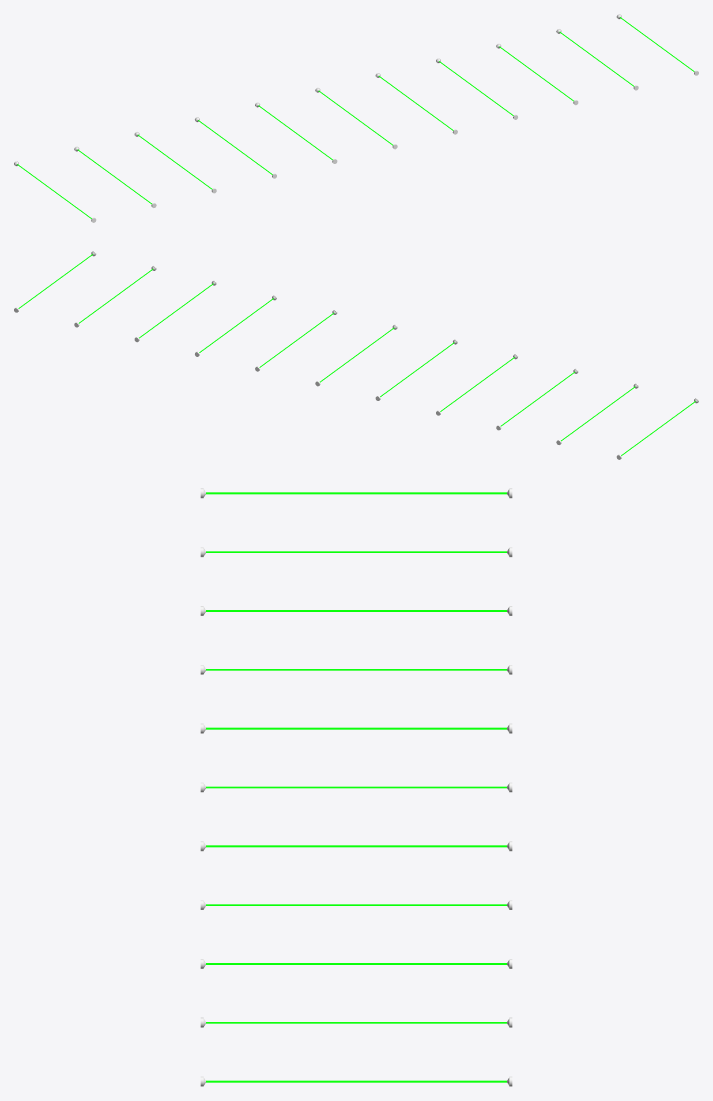
The picture shows the model from 3 angles, top to bottom: view 1: azimuth 30°, elevation 25°; view 2: azimuth 150°, elevation 25°; view 3: azimuth 270°, elevation 25°; orthographic projection. The views are drawn at different scales.
Parts seen in each view (by area): view 1: Cylinder.003; view 2: Cylinder.003; view 3: Cylinder.003.
Part boxes in pixels (<box>): Cylinder.003: <box>14,14,698,222</box>; Cylinder.003: <box>14,251,698,459</box>; Cylinder.003: <box>200,488,512,1086</box>.
Size of the model in its own units: 2036 by 14.44 by 453.
